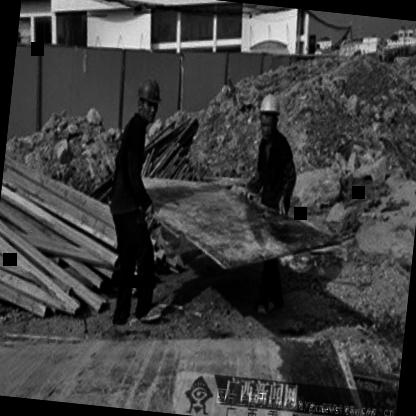helmet: (132, 70, 164, 124), (254, 89, 284, 139)
